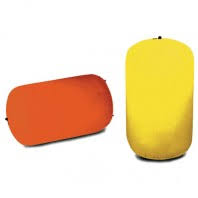buoy: (6, 75, 114, 146)
